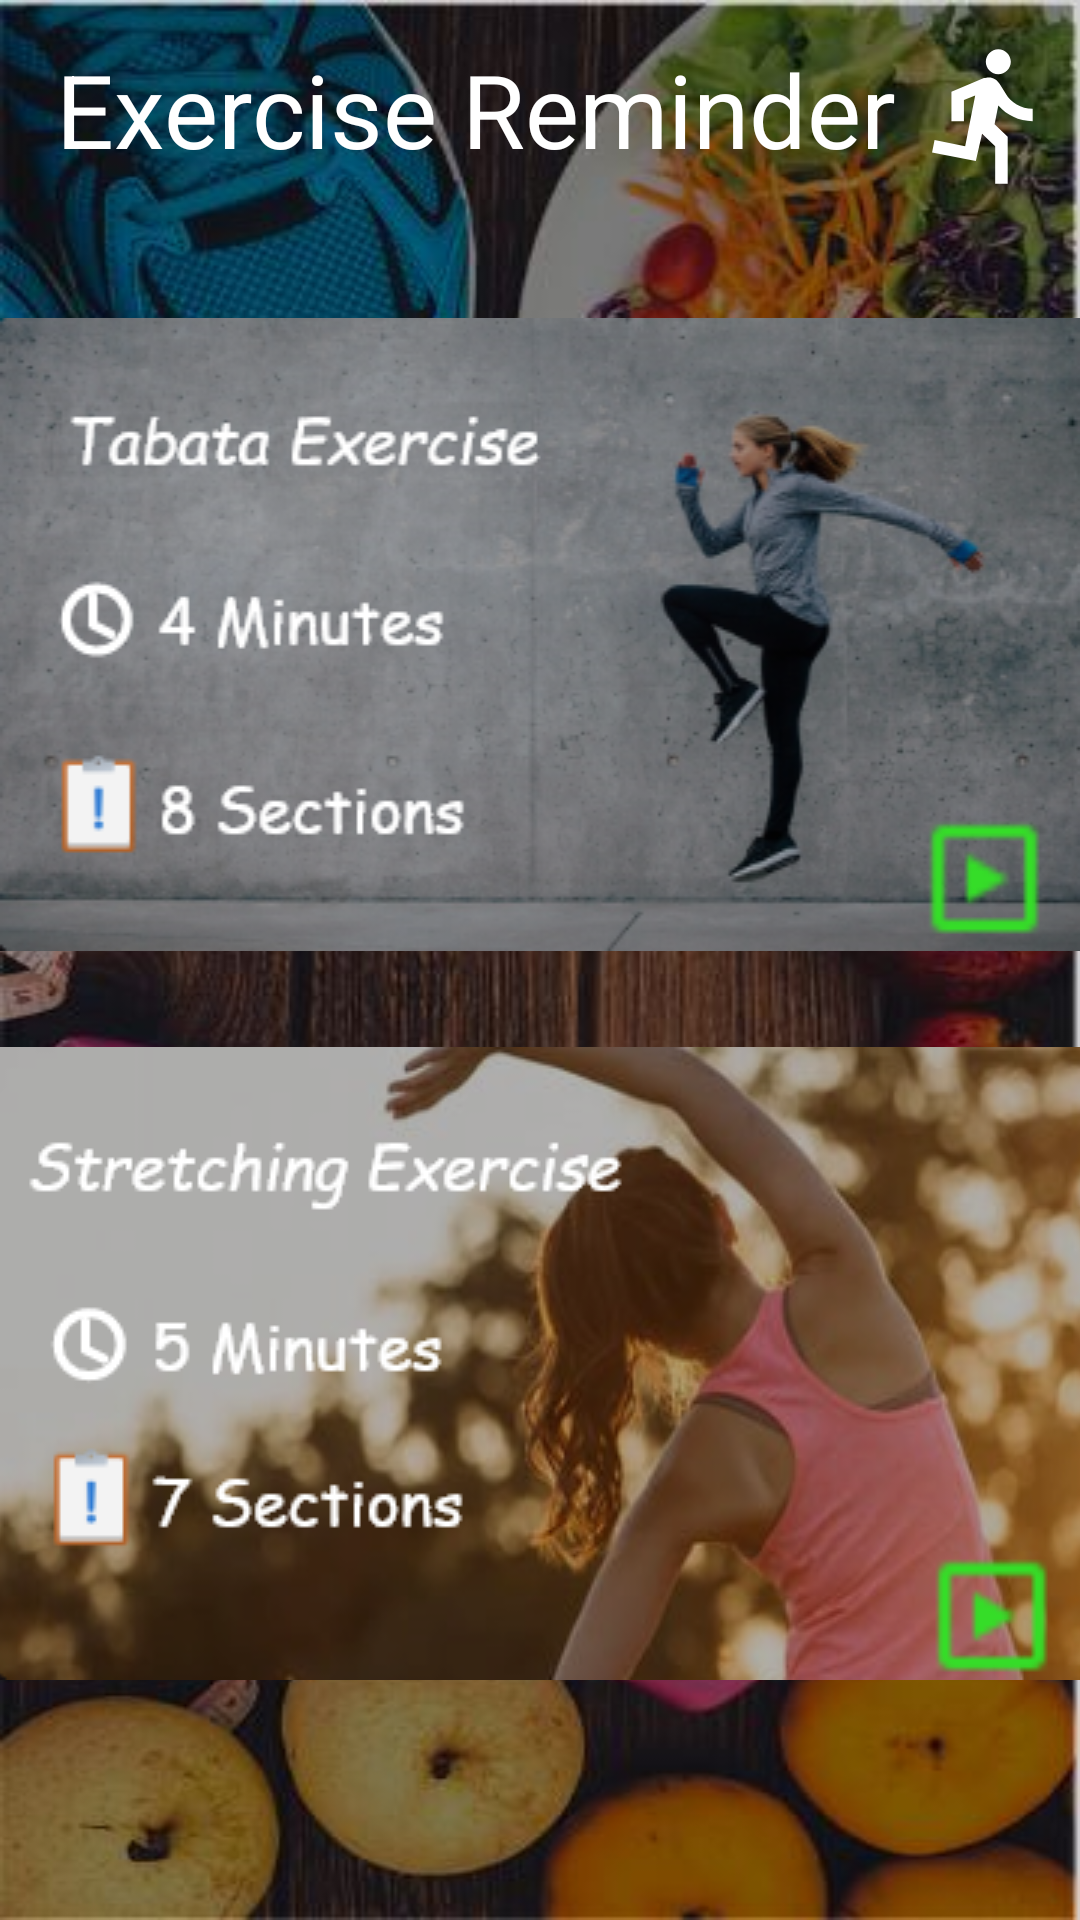

Icons on this 1080*1920 Android screen, each with the point to tap as point (x, y):
directions run: point (989, 115)
